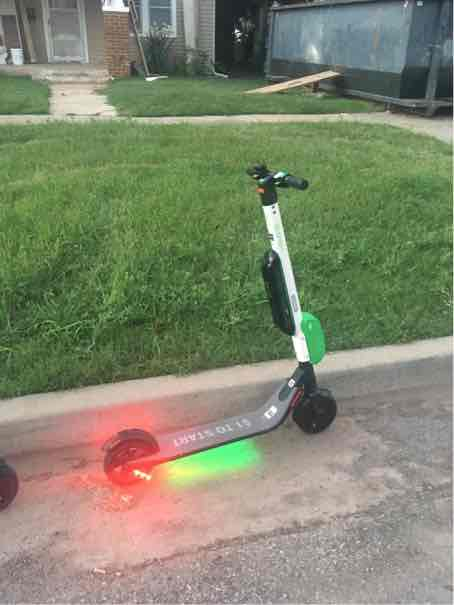scooter: (94, 148, 339, 495)
